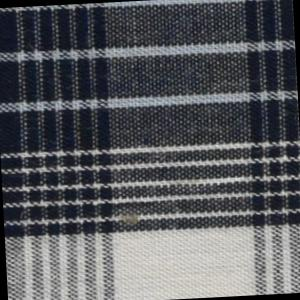Stain: (122, 213, 140, 227)
